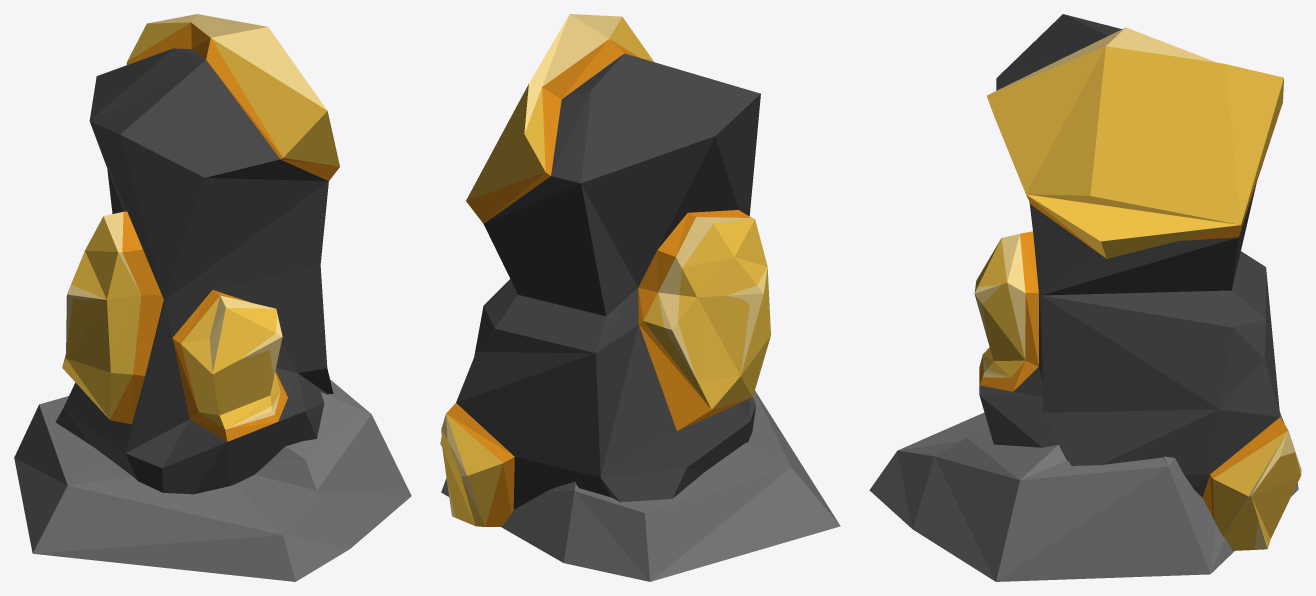
Rendered from Stone_Yellow_A_02.FBX.
3 views of the same model, side by side, from view 1: azimuth 30°, elevation 25°; view 2: azimuth 150°, elevation 25°; view 3: azimuth 270°, elevation 25° (orthographic). The views are drawn at different scales.
Parts seen in each view (by area): view 1: Stone_Yellow_A_02; view 2: Stone_Yellow_A_02; view 3: Stone_Yellow_A_02.
Boxes of the visible parts, <box> form: Stone_Yellow_A_02: <box>14,14,411,581</box>; Stone_Yellow_A_02: <box>440,14,840,581</box>; Stone_Yellow_A_02: <box>869,14,1301,581</box>.
Size of the model in its own units: 3.12 by 3.95 by 3.17.
